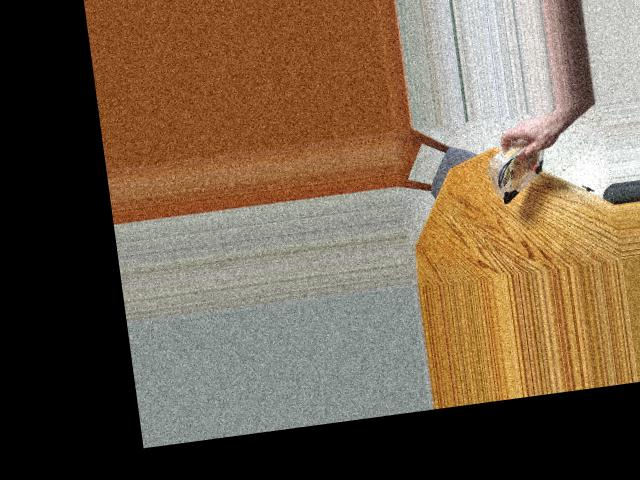cheese: (478, 137, 568, 203)
